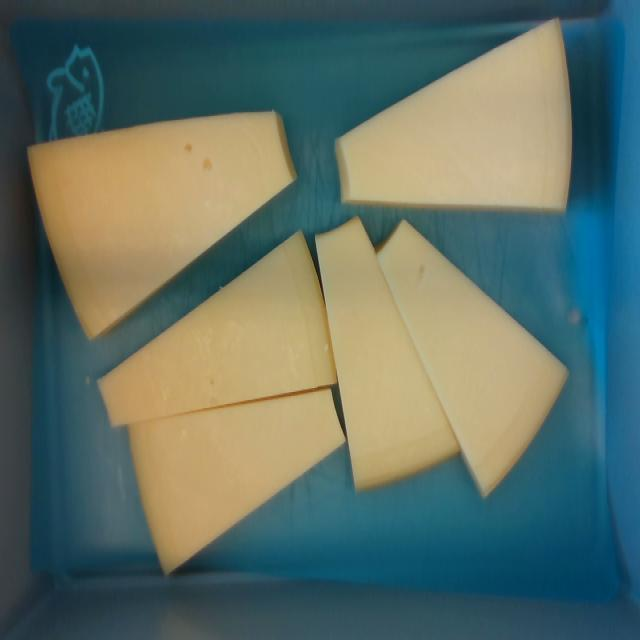cheese: (31, 112, 294, 336), (374, 217, 565, 497), (97, 229, 335, 427), (336, 20, 571, 211), (128, 388, 347, 572), (316, 219, 458, 488)
